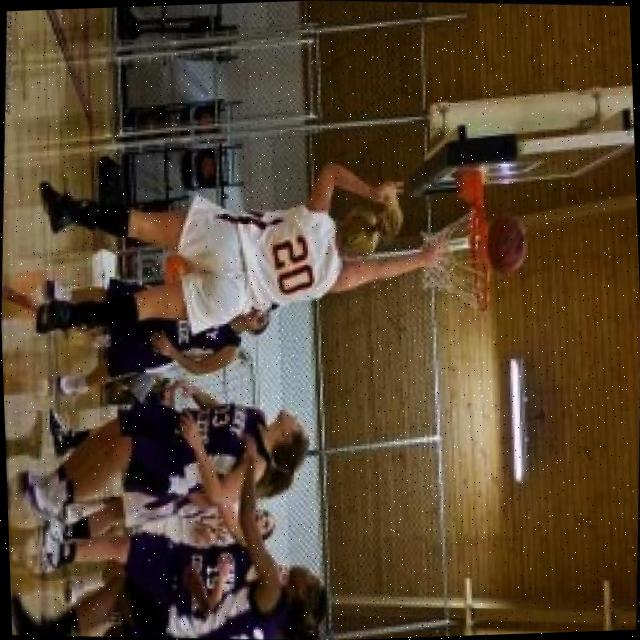ball: (479, 210, 537, 281)
hoop: (461, 200, 493, 320)
